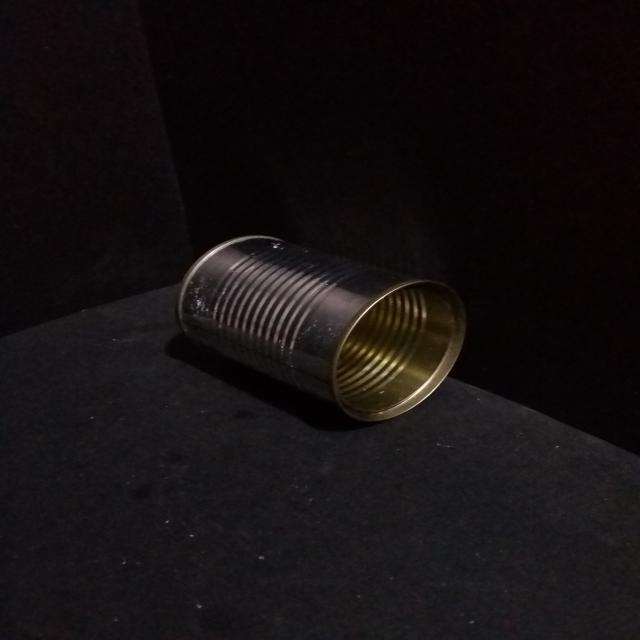metal-can: (173, 226, 467, 426)
